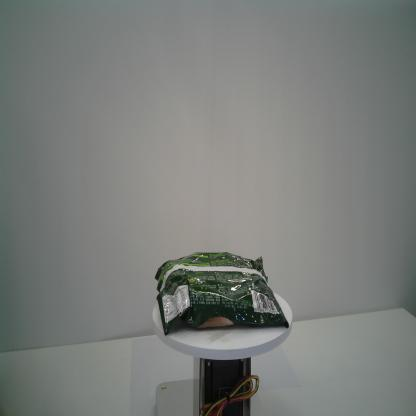Instant Noodles: (153, 246, 291, 337)
